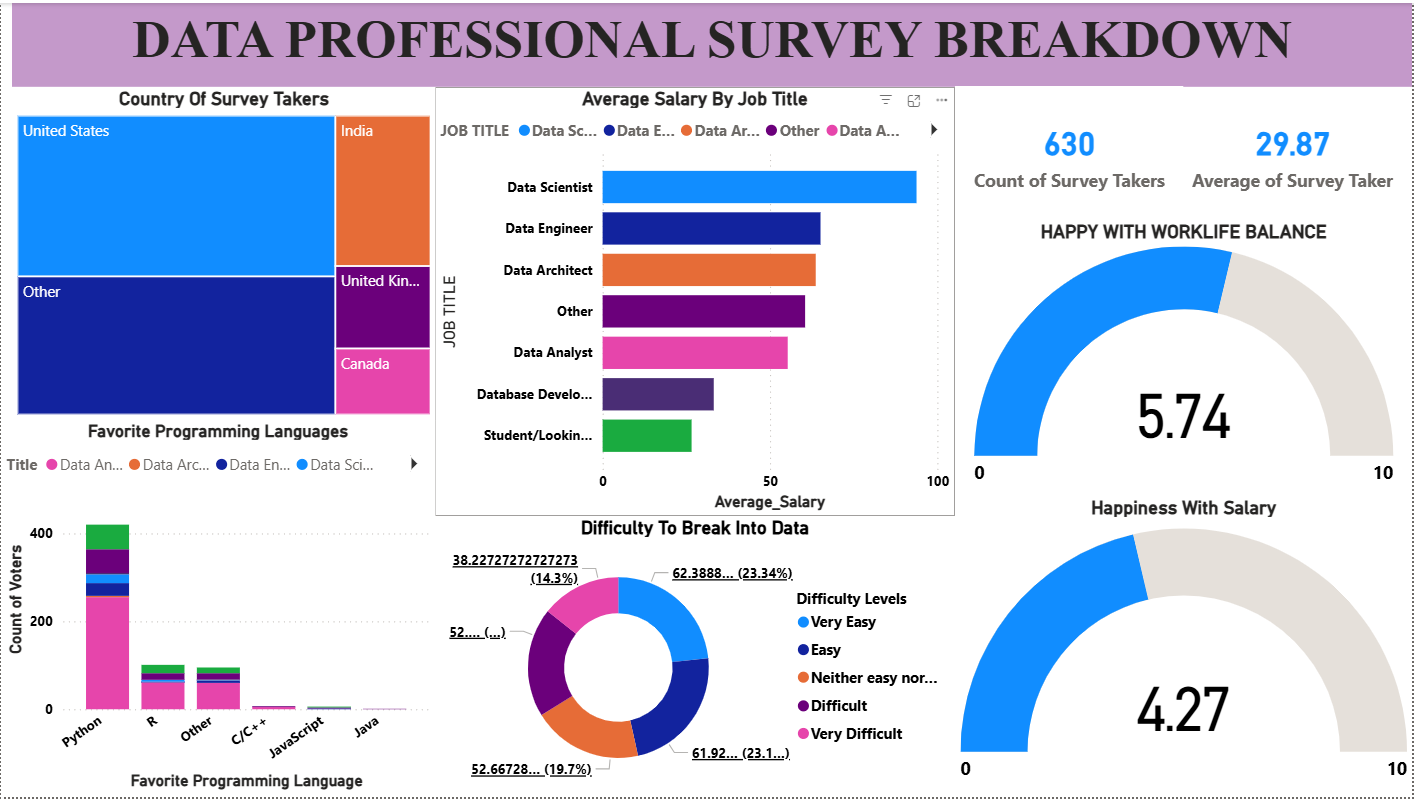

This screenshot's page, from the dashboard's own definition file:
{"tool":"powerbi","page":{"name":"Page 1","canvas":[1280,720],"ordinal":0},"visuals":[{"type":"textbox","box":[9.8,0,1270.2,76.2],"z":0},{"type":"card","fields":{"Values":["Count(Data Professional Survey.Unique ID)"]},"box":[865.1,75.4,207.4,121.4],"z":1000},{"type":"card","fields":{"Values":["Avg(Data Professional Survey.Q10 - Current Age)"]},"box":[1063.1,76.6,216.9,120.2],"z":2000},{"type":"barChart","title":"Average Salary By Job Title","fields":{"Category":["Data Professional Survey.Q1 - Which Title Best Fits your Current Role?.1"],"Series":["Data Professional Survey.Q1 - Which Title Best Fits your Current Role?.1"],"Y":["Avg(Data Professional Survey.Average_Salary)"]},"box":[393.6,76.2,471.5,389],"z":3000},{"type":"columnChart","title":"Favorite Programming Languages","fields":{"Category":["Data Professional Survey.Q5 - Favorite Programming Language.1"],"Series":["Data Professional Survey.Q1 - Which Title Best Fits your Current Role?.1"],"Y":["CountNonNull(Data Professional Survey.Unique ID)"]},"box":[0,378.3,393.7,340.6],"z":4000},{"type":"treemap","title":"Country Of Survey Takers","fields":{"Group":["Data Professional Survey.Q11 - Which Country do you live in?.1"],"Values":["CountNonNull(Data Professional Survey.Q11 - Which Country do you live in?.1)"]},"box":[10,76.2,384.5,302],"z":5000},{"type":"gauge","title":"HAPPY WITH WORKLIFE BALANCE","fields":{"MaxValue":["Max(Data Professional Survey.Q6 - How Happy are you in your Current Position with the following? (Work/Life Balance))2"],"MinValue":["Min(Data Professional Survey.Q6 - How Happy are you in your Current Position with the following? (Work/Life Balance))1"],"Y":["Avg(Data Professional Survey.Q6 - How Happy are you in your Current Position with the following? (Work/Life Balance))"]},"box":[865.1,196.8,414.9,249.9],"z":6000},{"type":"gauge","title":"Happiness With Salary","fields":{"MaxValue":["Max(Data Professional Survey.Q6 - How Happy are you in your Current Position with the following? (Salary))"],"MinValue":["Min(Data Professional Survey.Q6 - How Happy are you in your Current Position with the following? (Salary))"],"Y":["Avg(Data Professional Survey.Q6 - How Happy are you in your Current Position with the following? (Salary))"]},"box":[865.1,446.7,414.9,273.4],"z":7000},{"type":"donutChart","title":"Difficulty To Break Into Data","fields":{"Category":["Data Professional Survey.Q7 - How difficult was it for you to break into Data?"],"Series":["Data Professional Survey.Q7 - How difficult was it for you to break into Data?"],"Y":["Avg(Data Professional Survey.Average_Salary)"]},"box":[393.6,465.2,471.5,253.9],"z":8000}]}

Visuals, with their boxes in screenshot pixels (x1, y1, x2, y2), scaled from the page's 1280x720 canvas onto the 1414x800 screenshot:
textbox: [left=11, top=0, right=1413, bottom=85]
card - Count(Data Professional Survey.Unique ID): [left=956, top=84, right=1185, bottom=219]
card - Avg(Data Professional Survey.Q10 - Current Age): [left=1174, top=85, right=1413, bottom=219]
"Average Salary By Job Title" barChart: [left=435, top=85, right=956, bottom=517]
"Favorite Programming Languages" columnChart: [left=0, top=420, right=435, bottom=799]
"Country Of Survey Takers" treemap: [left=11, top=85, right=436, bottom=420]
"HAPPY WITH WORKLIFE BALANCE" gauge: [left=956, top=219, right=1413, bottom=496]
"Happiness With Salary" gauge: [left=956, top=496, right=1413, bottom=799]
"Difficulty To Break Into Data" donutChart: [left=435, top=517, right=956, bottom=799]
